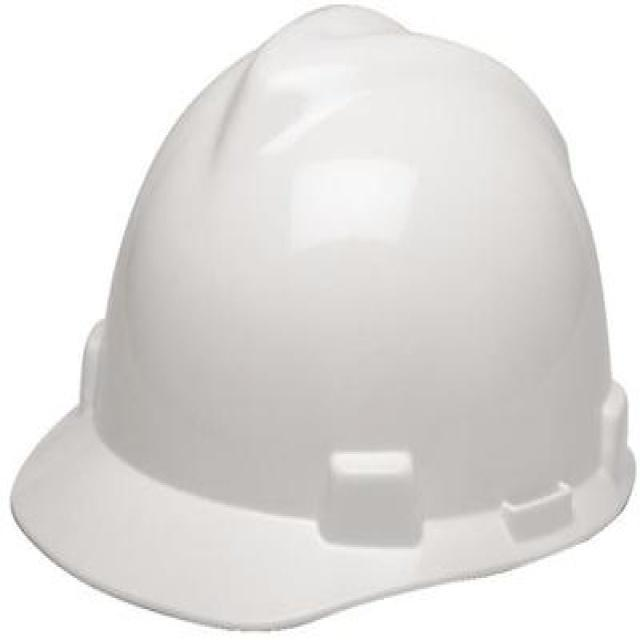helmet: (2, 0, 637, 640)
